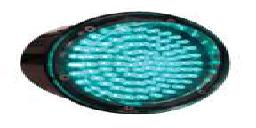LED: (20, 12, 230, 116)
